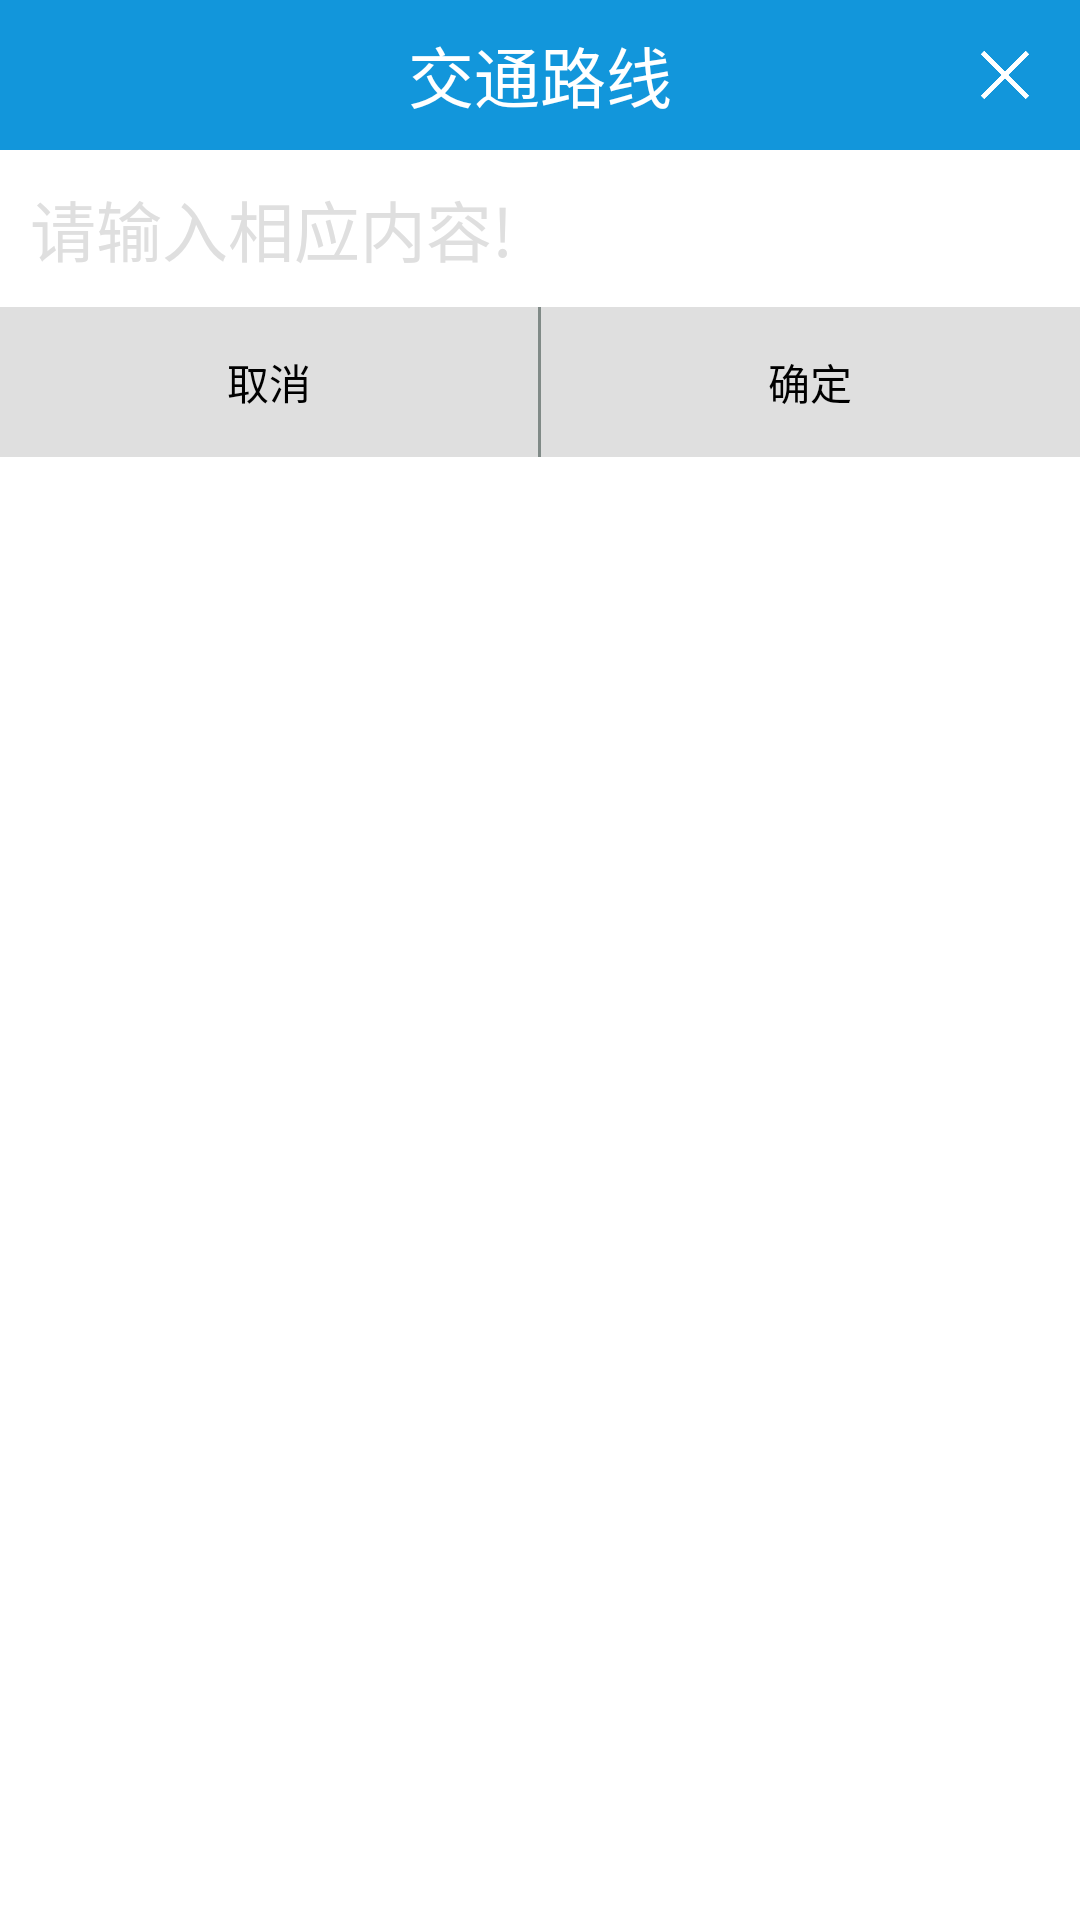

Point at icon controls on the screen. Image size 1080w x 1920h, points as [x,y].
cancel: [1005,75]
